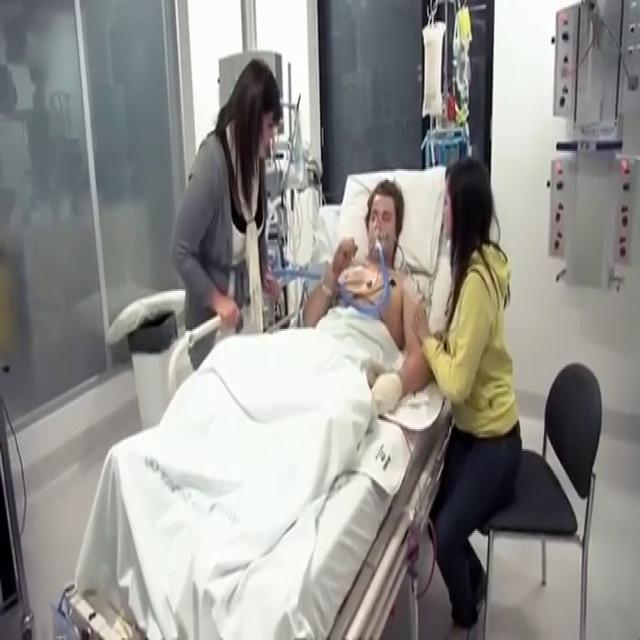others: (405, 153, 522, 631), (169, 56, 283, 369)
patient: (72, 176, 436, 638)
